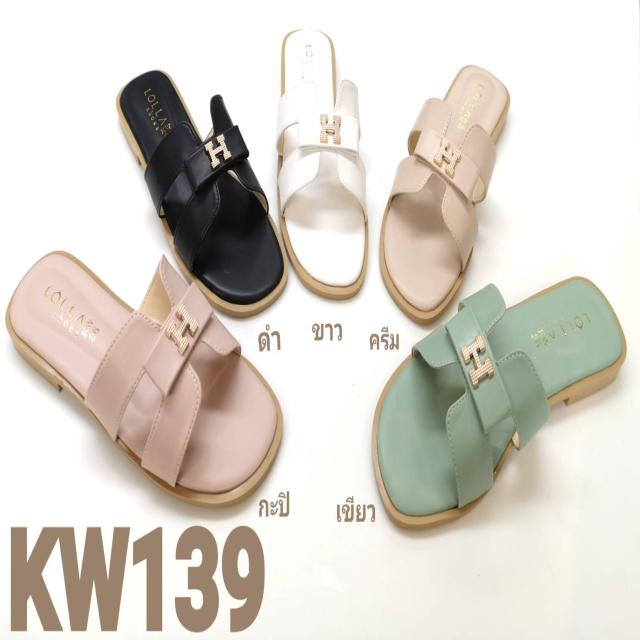black: (121, 59, 284, 308)
cream: (381, 62, 508, 318)
green: (376, 279, 620, 520)
kapi: (7, 248, 281, 510)
white: (279, 29, 365, 291)
